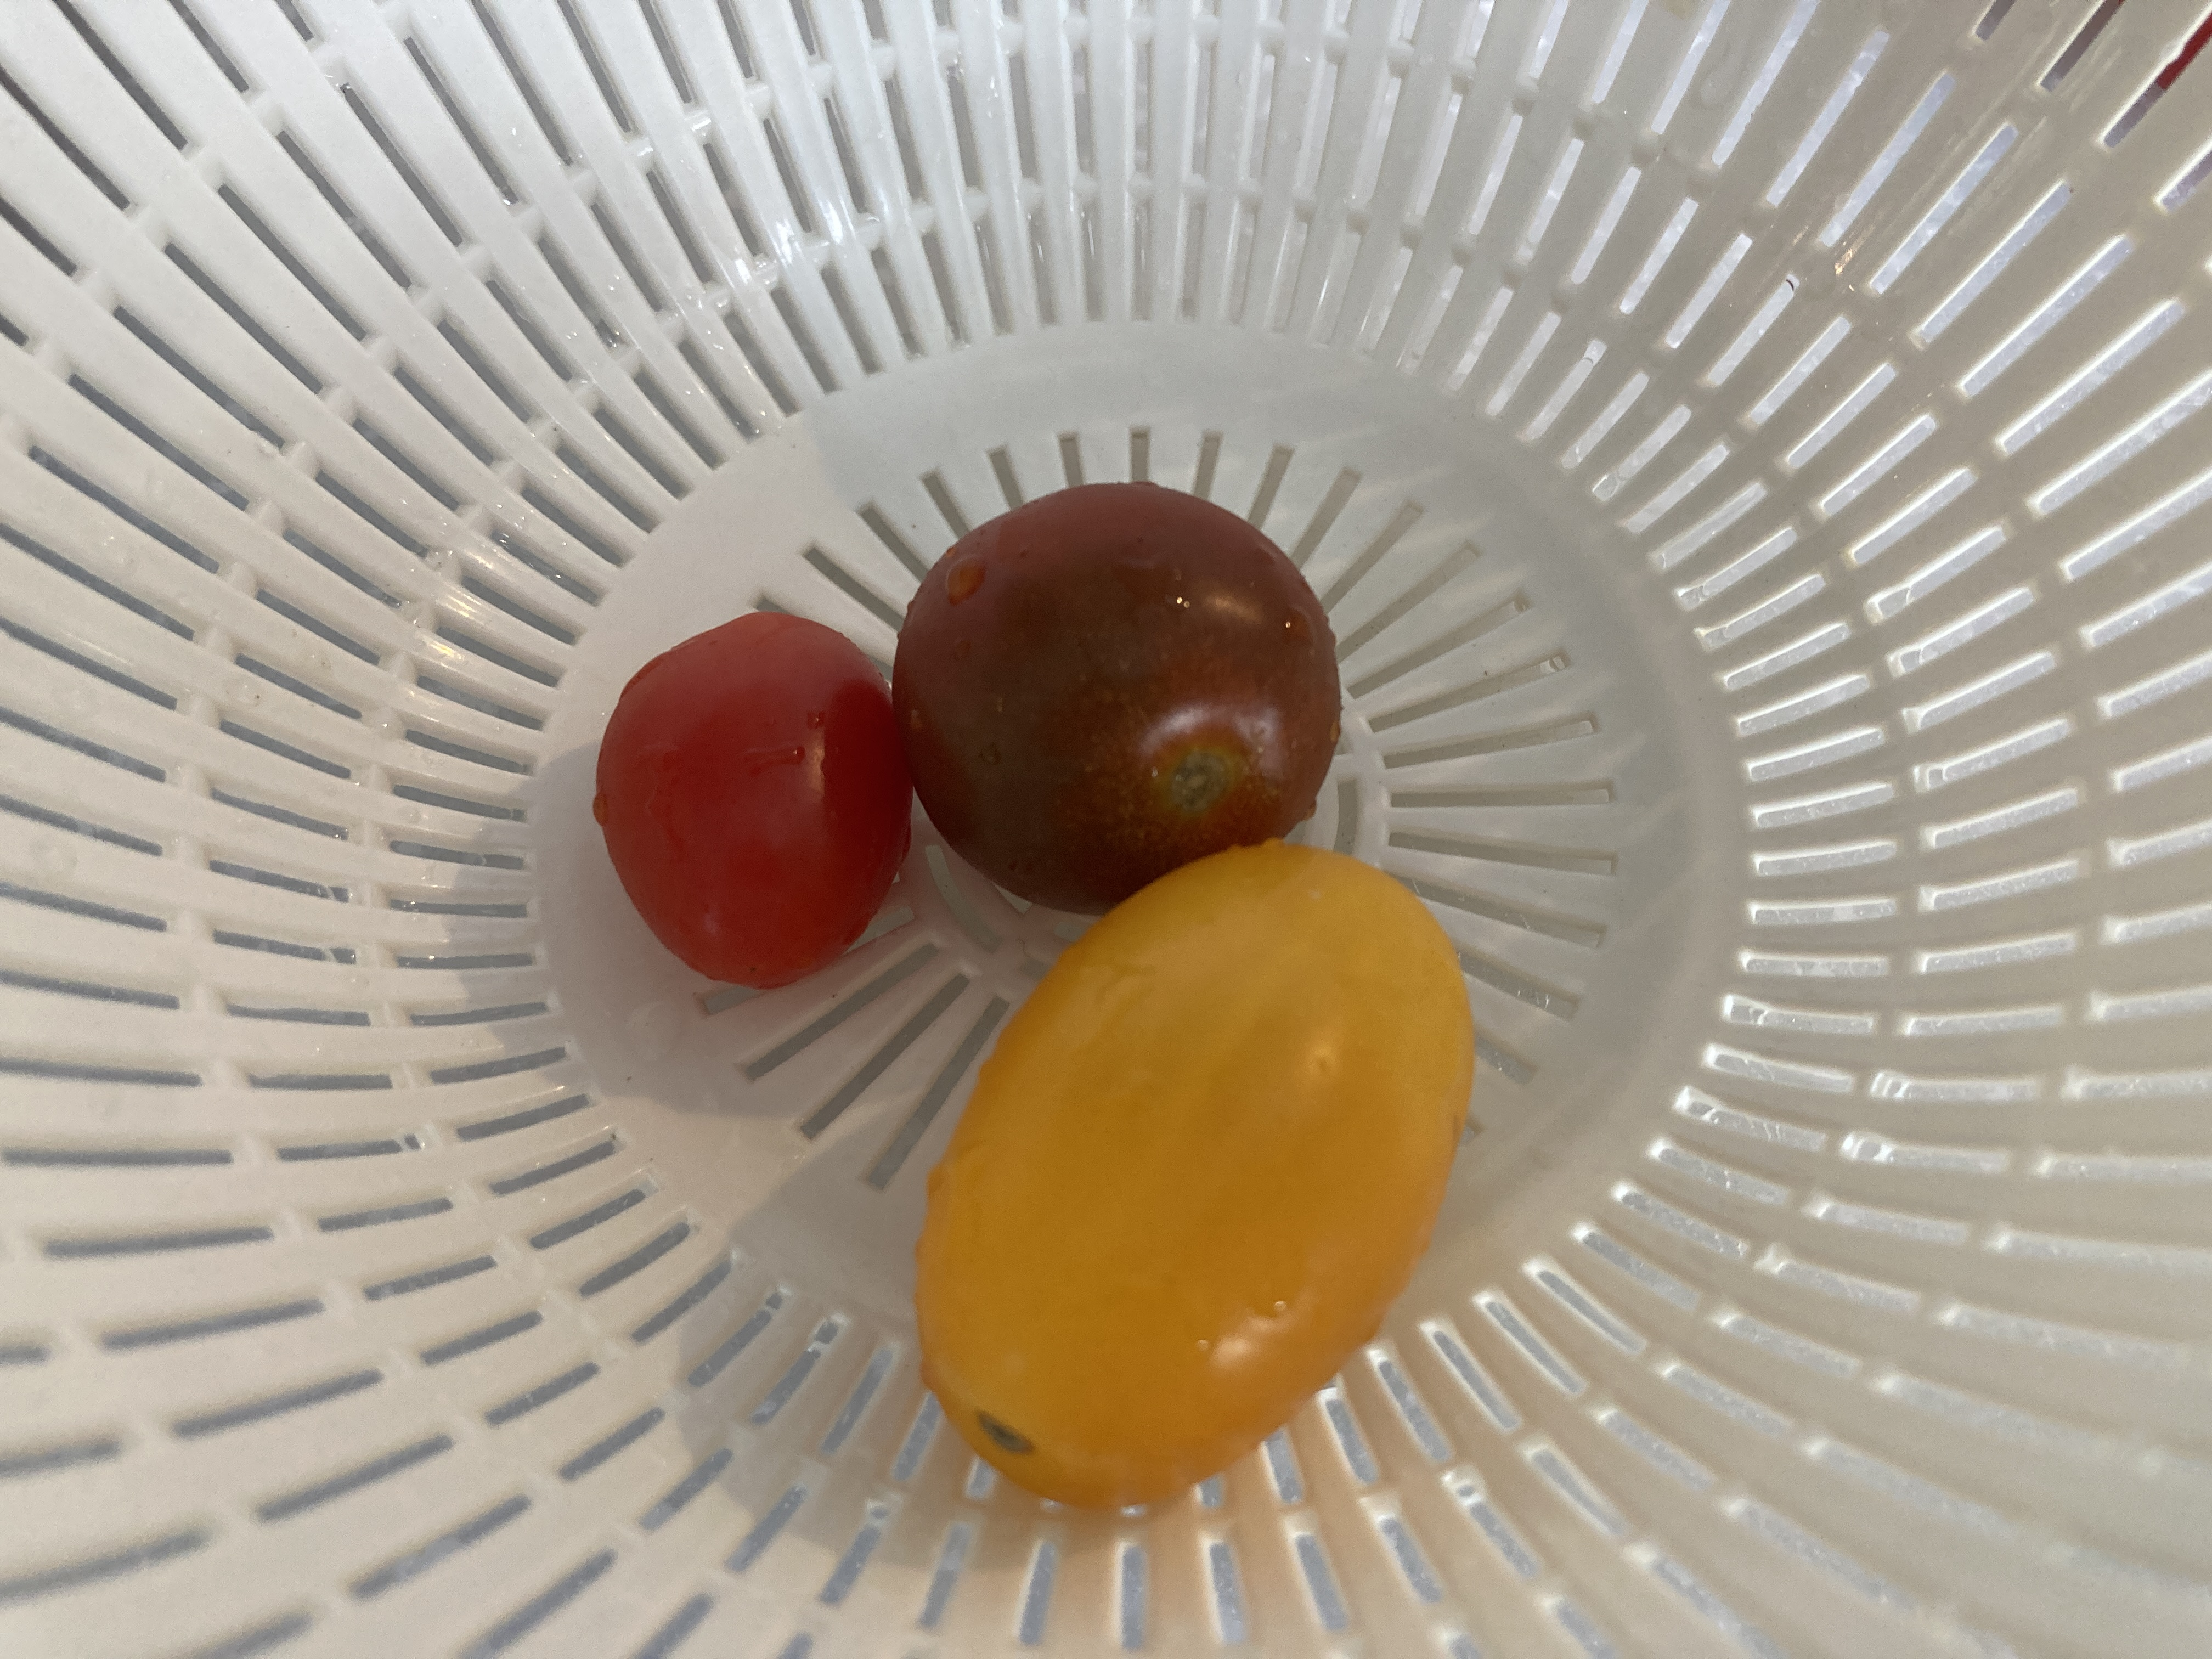healthy-tomato: (916, 849, 1468, 1506), (900, 481, 1341, 910), (587, 605, 897, 993)
